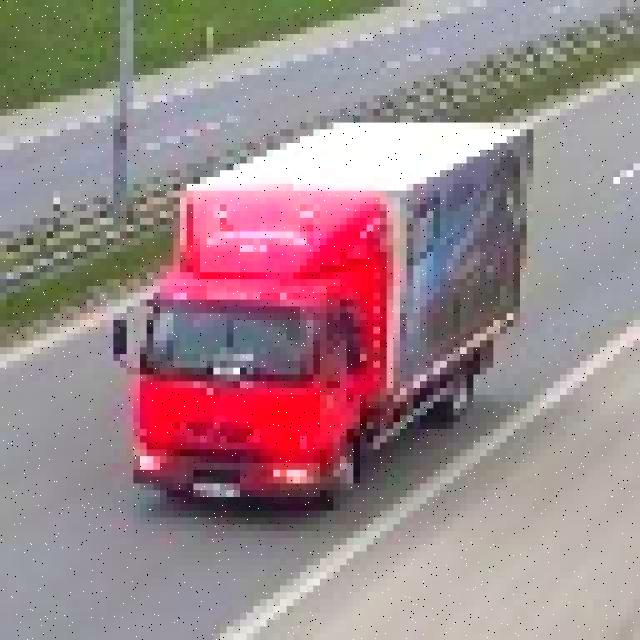truck: (106, 109, 526, 504)
